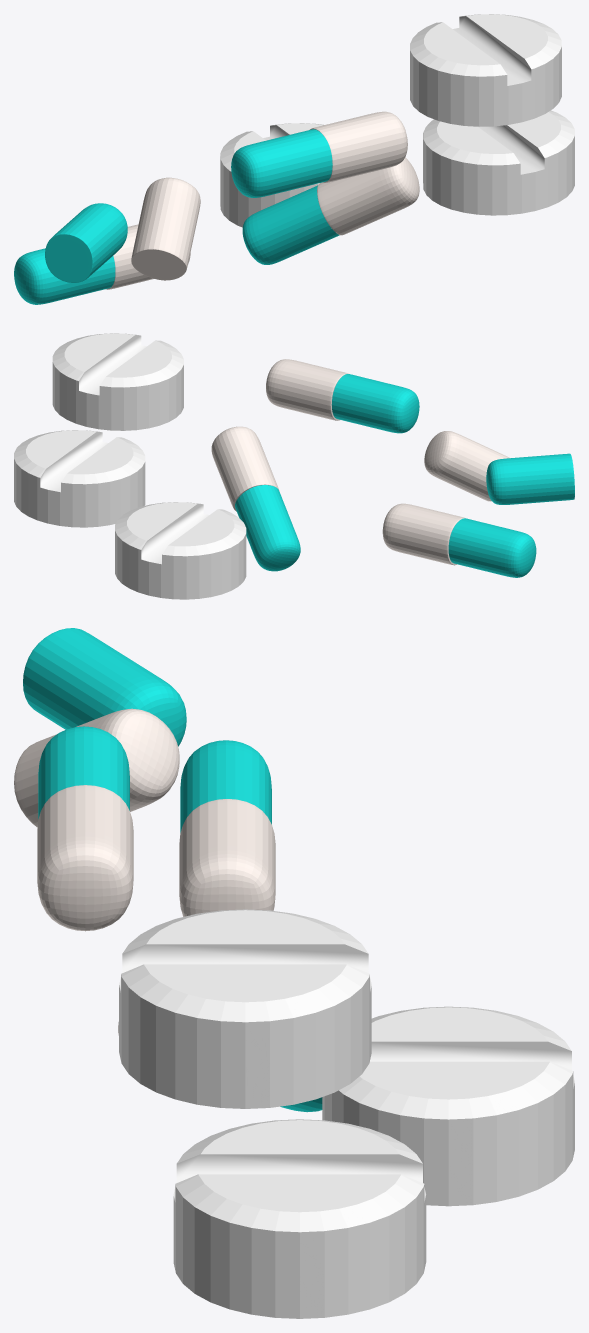
The model's file is MedicamentoFrmacias.fbx.
3 views of the same model, one above another, from view 1: azimuth 30°, elevation 25°; view 2: azimuth 150°, elevation 25°; view 3: azimuth 270°, elevation 25° (orthographic). The views are drawn at different scales.
Visible parts, largest first — view 1: Cylinder.002, Cylinder, Cube.006, Cube.005, Cube, Cube.001, Cube.007, Cube.004, Cylinder.001, Cube.003, Cube.002; view 2: Cylinder.002, Cylinder.001, Cylinder, Cube.007, Cube.003, Cube.005, Cube.001, Cube.002, Cube.004, Cube.006, Cube; view 3: Cylinder, Cylinder.002, Cylinder.001, Cube.004, Cube.007, Cube.002, Cube.006, Cube.003, Cube.005.
Boxes of the visible parts, x1,y1,x2,y2 form: Cylinder.002: (410, 14, 561, 126); Cylinder: (423, 110, 574, 215); Cube.006: (131, 177, 200, 280); Cube.005: (231, 129, 332, 197); Cube: (317, 157, 419, 235); Cube.001: (242, 185, 339, 264); Cube.007: (45, 203, 127, 282); Cube.004: (310, 111, 407, 182); Cylinder.001: (220, 123, 323, 227); Cube.003: (14, 248, 115, 304); Cube.002: (106, 224, 190, 289); Cylinder.002: (52, 333, 183, 430); Cylinder.001: (115, 502, 246, 599); Cylinder: (14, 430, 145, 527); Cube.007: (486, 453, 574, 504); Cube.003: (448, 518, 536, 577); Cube.005: (331, 374, 419, 433); Cube.001: (235, 485, 300, 571); Cube.002: (382, 503, 465, 565); Cube.004: (266, 359, 348, 420); Cube.006: (424, 431, 509, 501); Cube: (211, 426, 279, 511); Cylinder: (173, 1119, 426, 1318); Cylinder.002: (119, 909, 371, 1108); Cylinder.001: (322, 1006, 574, 1206); Cube.004: (37, 785, 133, 931); Cube.007: (23, 628, 186, 746); Cube.002: (179, 799, 275, 916); Cube.006: (14, 708, 179, 827); Cube.003: (180, 740, 271, 832); Cube.005: (38, 726, 129, 818).
Size of the model in its own units: 1227 by 377 by 594.
